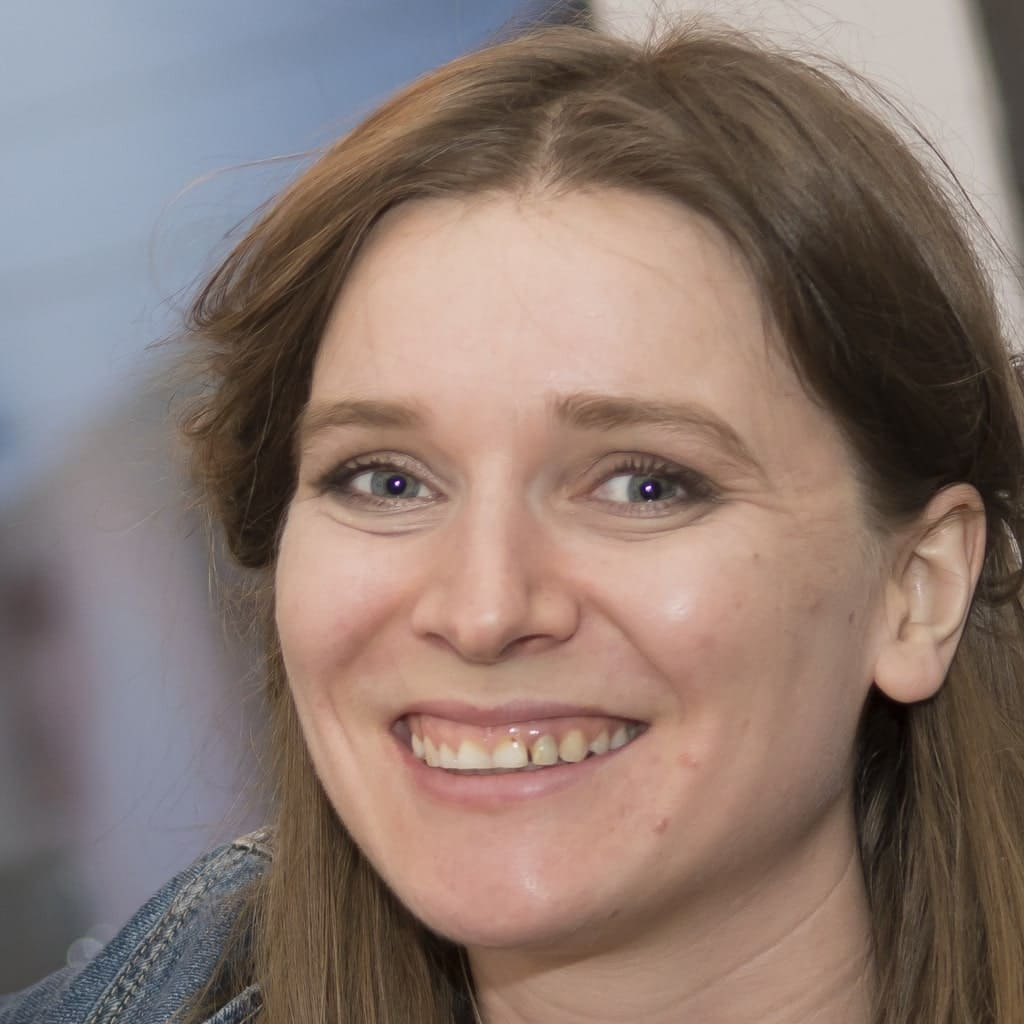without_mask: (291, 246, 800, 868)
